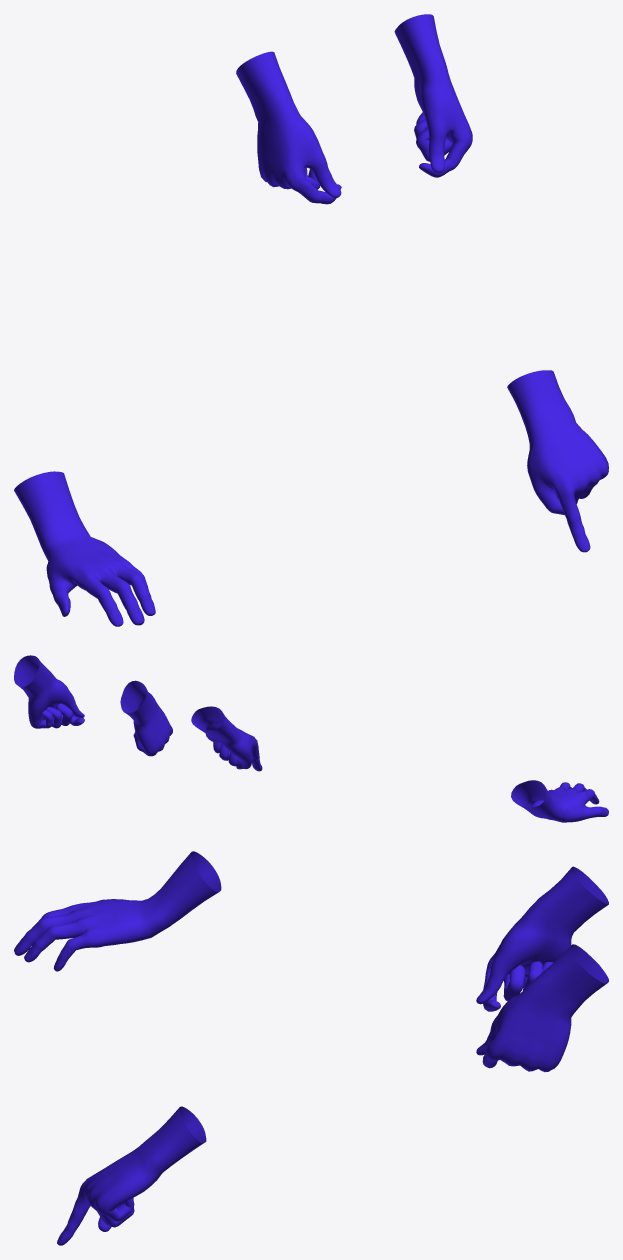
The model's file is Hand.FBX.
3 renders of one model, top to bottom at view 1: azimuth 30°, elevation 25°; view 2: azimuth 150°, elevation 25°; view 3: azimuth 270°, elevation 25°, orthographic. The views are drawn at different scales.
Parts seen in each view (by area): view 1: handTake, hand_Catch, handPoint; view 2: handTake, hand_Catch, handPoint; view 3: handTake, hand_Catch, handPoint.
Boxes of the visible parts, x1=… form: handTake: x1=236, y1=14, x2=472, y2=204; hand_Catch: x1=14, y1=471, x2=155, y2=626; handPoint: x1=507, y1=370, x2=608, y2=552; handTake: x1=14, y1=655, x2=172, y2=756; hand_Catch: x1=511, y1=780, x2=608, y2=822; handPoint: x1=191, y1=706, x2=262, y2=771; handTake: x1=476, y1=866, x2=608, y2=1072; hand_Catch: x1=14, y1=851, x2=221, y2=971; handPoint: x1=57, y1=1106, x2=206, y2=1245.
Bounding box in the file's own units: 139 × 112 × 70.78.
